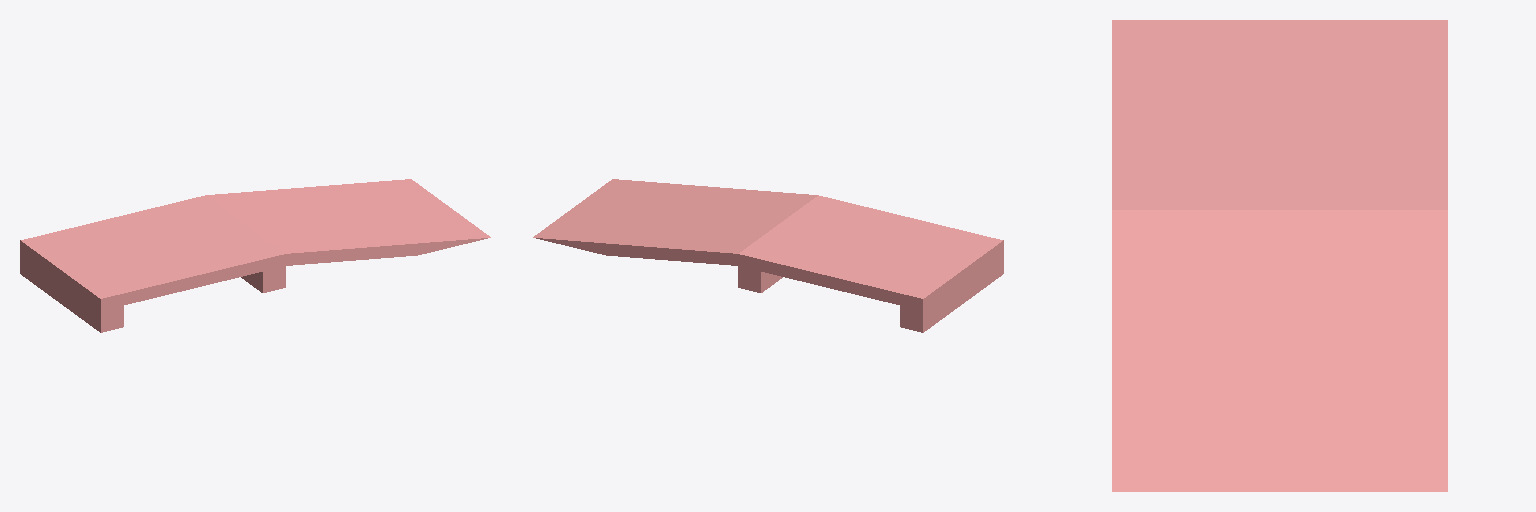
The robot description file, URDF, robot "obstacles":
<?xml version="1.0" ?>

<robot name="obstacles">
  <link name="world"/>

  <link name="ramp">
    <contact>
        <lateral_friction value="1.6"/>
    </contact>
    <visual>
      <geometry name="ramp">
        <mesh filename="assets/ramp.stl" scale="0.001 0.001 0.001"/>
      </geometry>
        <material name="powder">
          <color rgba="1 0.7 0.7 1"/>orange
        </material>
    </visual>
    <collision>
      <geometry name="ramp">
        <mesh filename="assets/ramp_hull.stl" scale="0.001 0.001 0.001"/>
      </geometry>
    </collision>
  </link>

  <!-- Joints -->
  <joint name="track_to_ramp" type="fixed">
    <parent link="world"/>
    <child link="ramp"/>
    <origin rpy="0 0 0" xyz="-2. 0 0"/>
  </joint>

</robot>

--- What the picture shows (computed from the rendered views, not written in the file) ---
3 views of the same robot in one strip: view 1: azimuth 30°, elevation 25°; view 2: azimuth 150°, elevation 25°; view 3: azimuth 270°, elevation 25° (orthographic).
Robot: obstacles — 2 links, 1 joints (1 fixed); root link world; default pose: all joints at 0.
Links seen in each view (by area): view 1: ramp; view 2: ramp; view 3: ramp.
Link boxes in pixels (x1,y1,x2,y2): ramp: (20, 179, 490, 332); ramp: (533, 179, 1003, 332); ramp: (1112, 20, 1447, 491).
Size in the robot's own frame: 1.69 by 0.6 by 0.14 metres.
Meshes: 1 distinct files referenced, 1 mesh visuals loaded (1 binary STL).